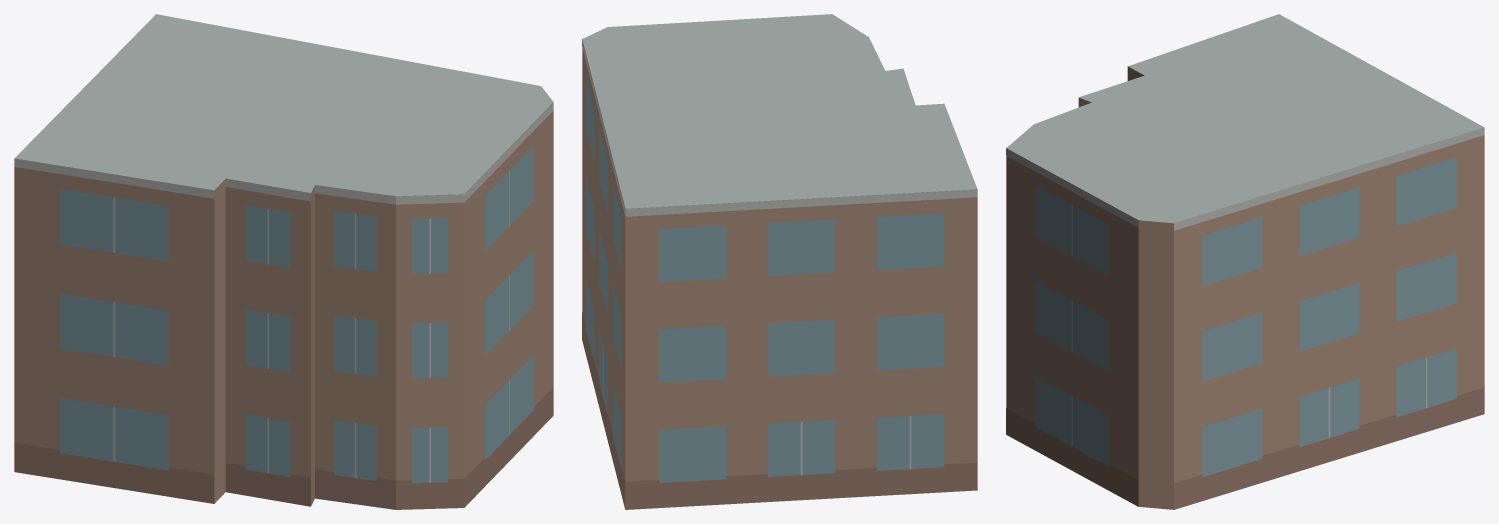
File: survey-upis-32576841.glb
3 views of the same model, side by side, from view 1: azimuth 30°, elevation 25°; view 2: azimuth 150°, elevation 25°; view 3: azimuth 270°, elevation 25° (orthographic). The views are drawn at different scales.
Parts seen in each view (by area): view 1: survey-upis-32576841.tmp; view 2: survey-upis-32576841.tmp; view 3: survey-upis-32576841.tmp.
Boxes of the visible parts, bbox=[...] form: survey-upis-32576841.tmp: bbox=[14, 14, 553, 509]; survey-upis-32576841.tmp: bbox=[582, 14, 977, 509]; survey-upis-32576841.tmp: bbox=[1006, 14, 1484, 509].
Bounding box in the file's own units: 14.34 × 9.15 × 13.85.
